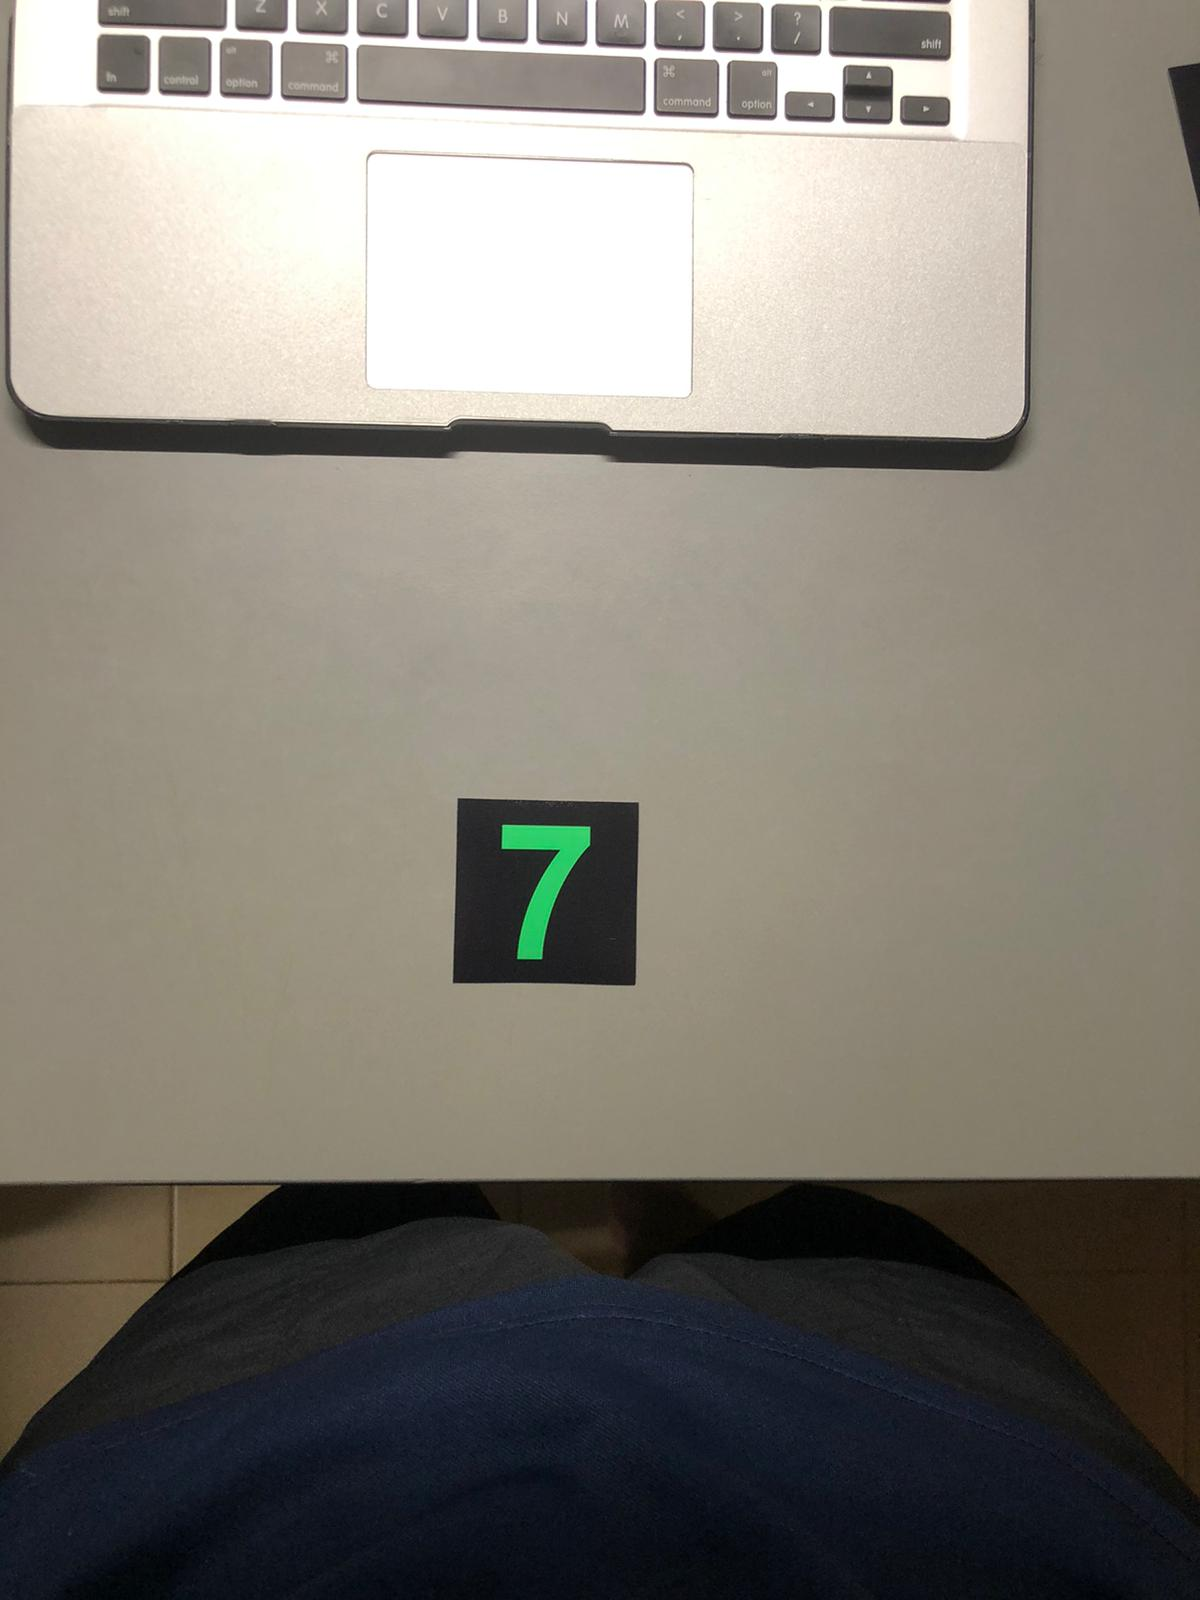Number 7: (446, 797, 635, 981)
